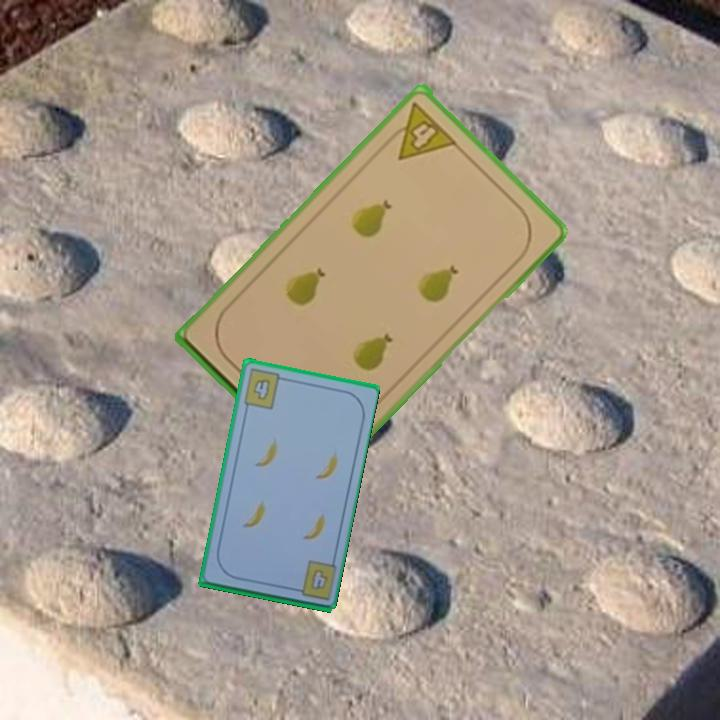4b: (240, 365, 289, 412), (306, 565, 331, 593)
4p: (381, 98, 460, 163)
